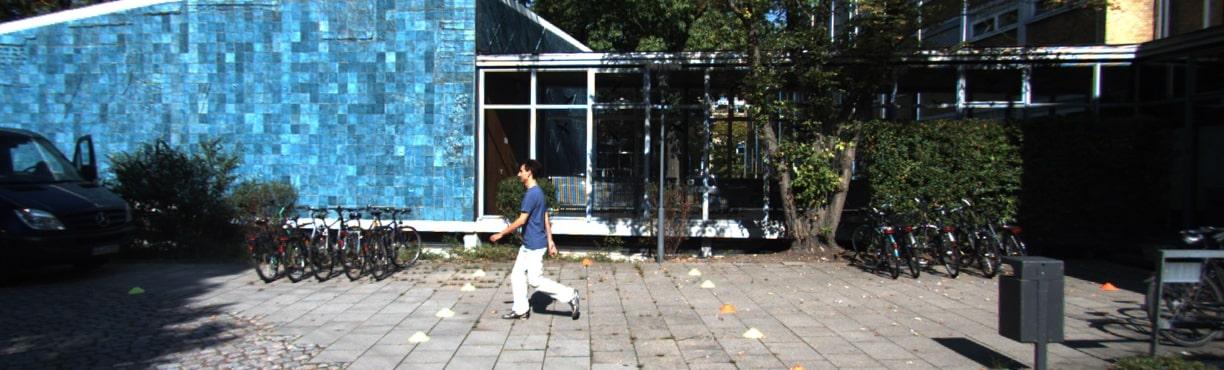person: (498, 148, 588, 337)
